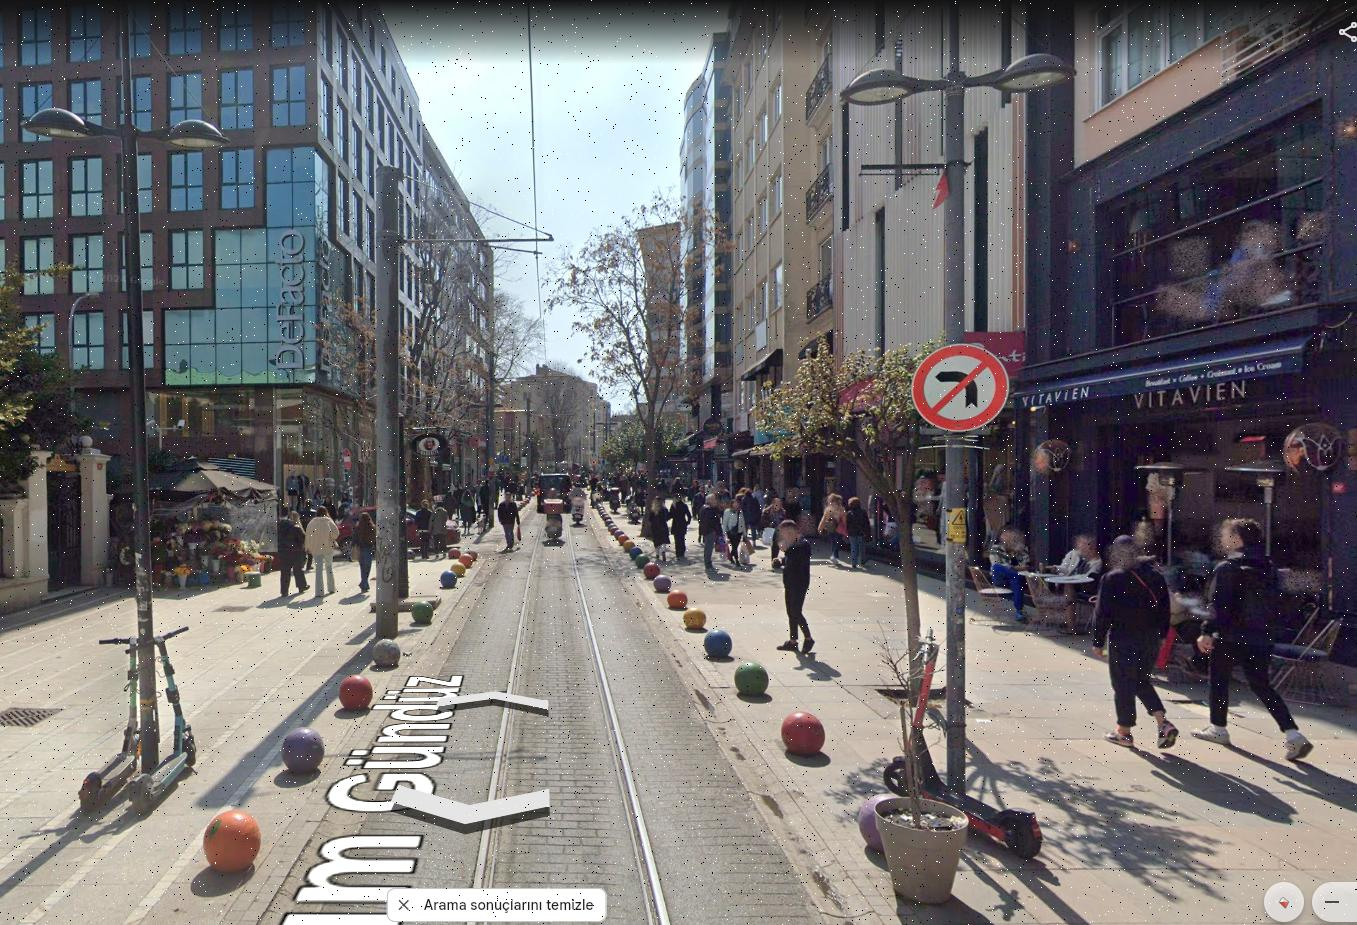leftturnsareforbidden: (908, 337, 1015, 434)
